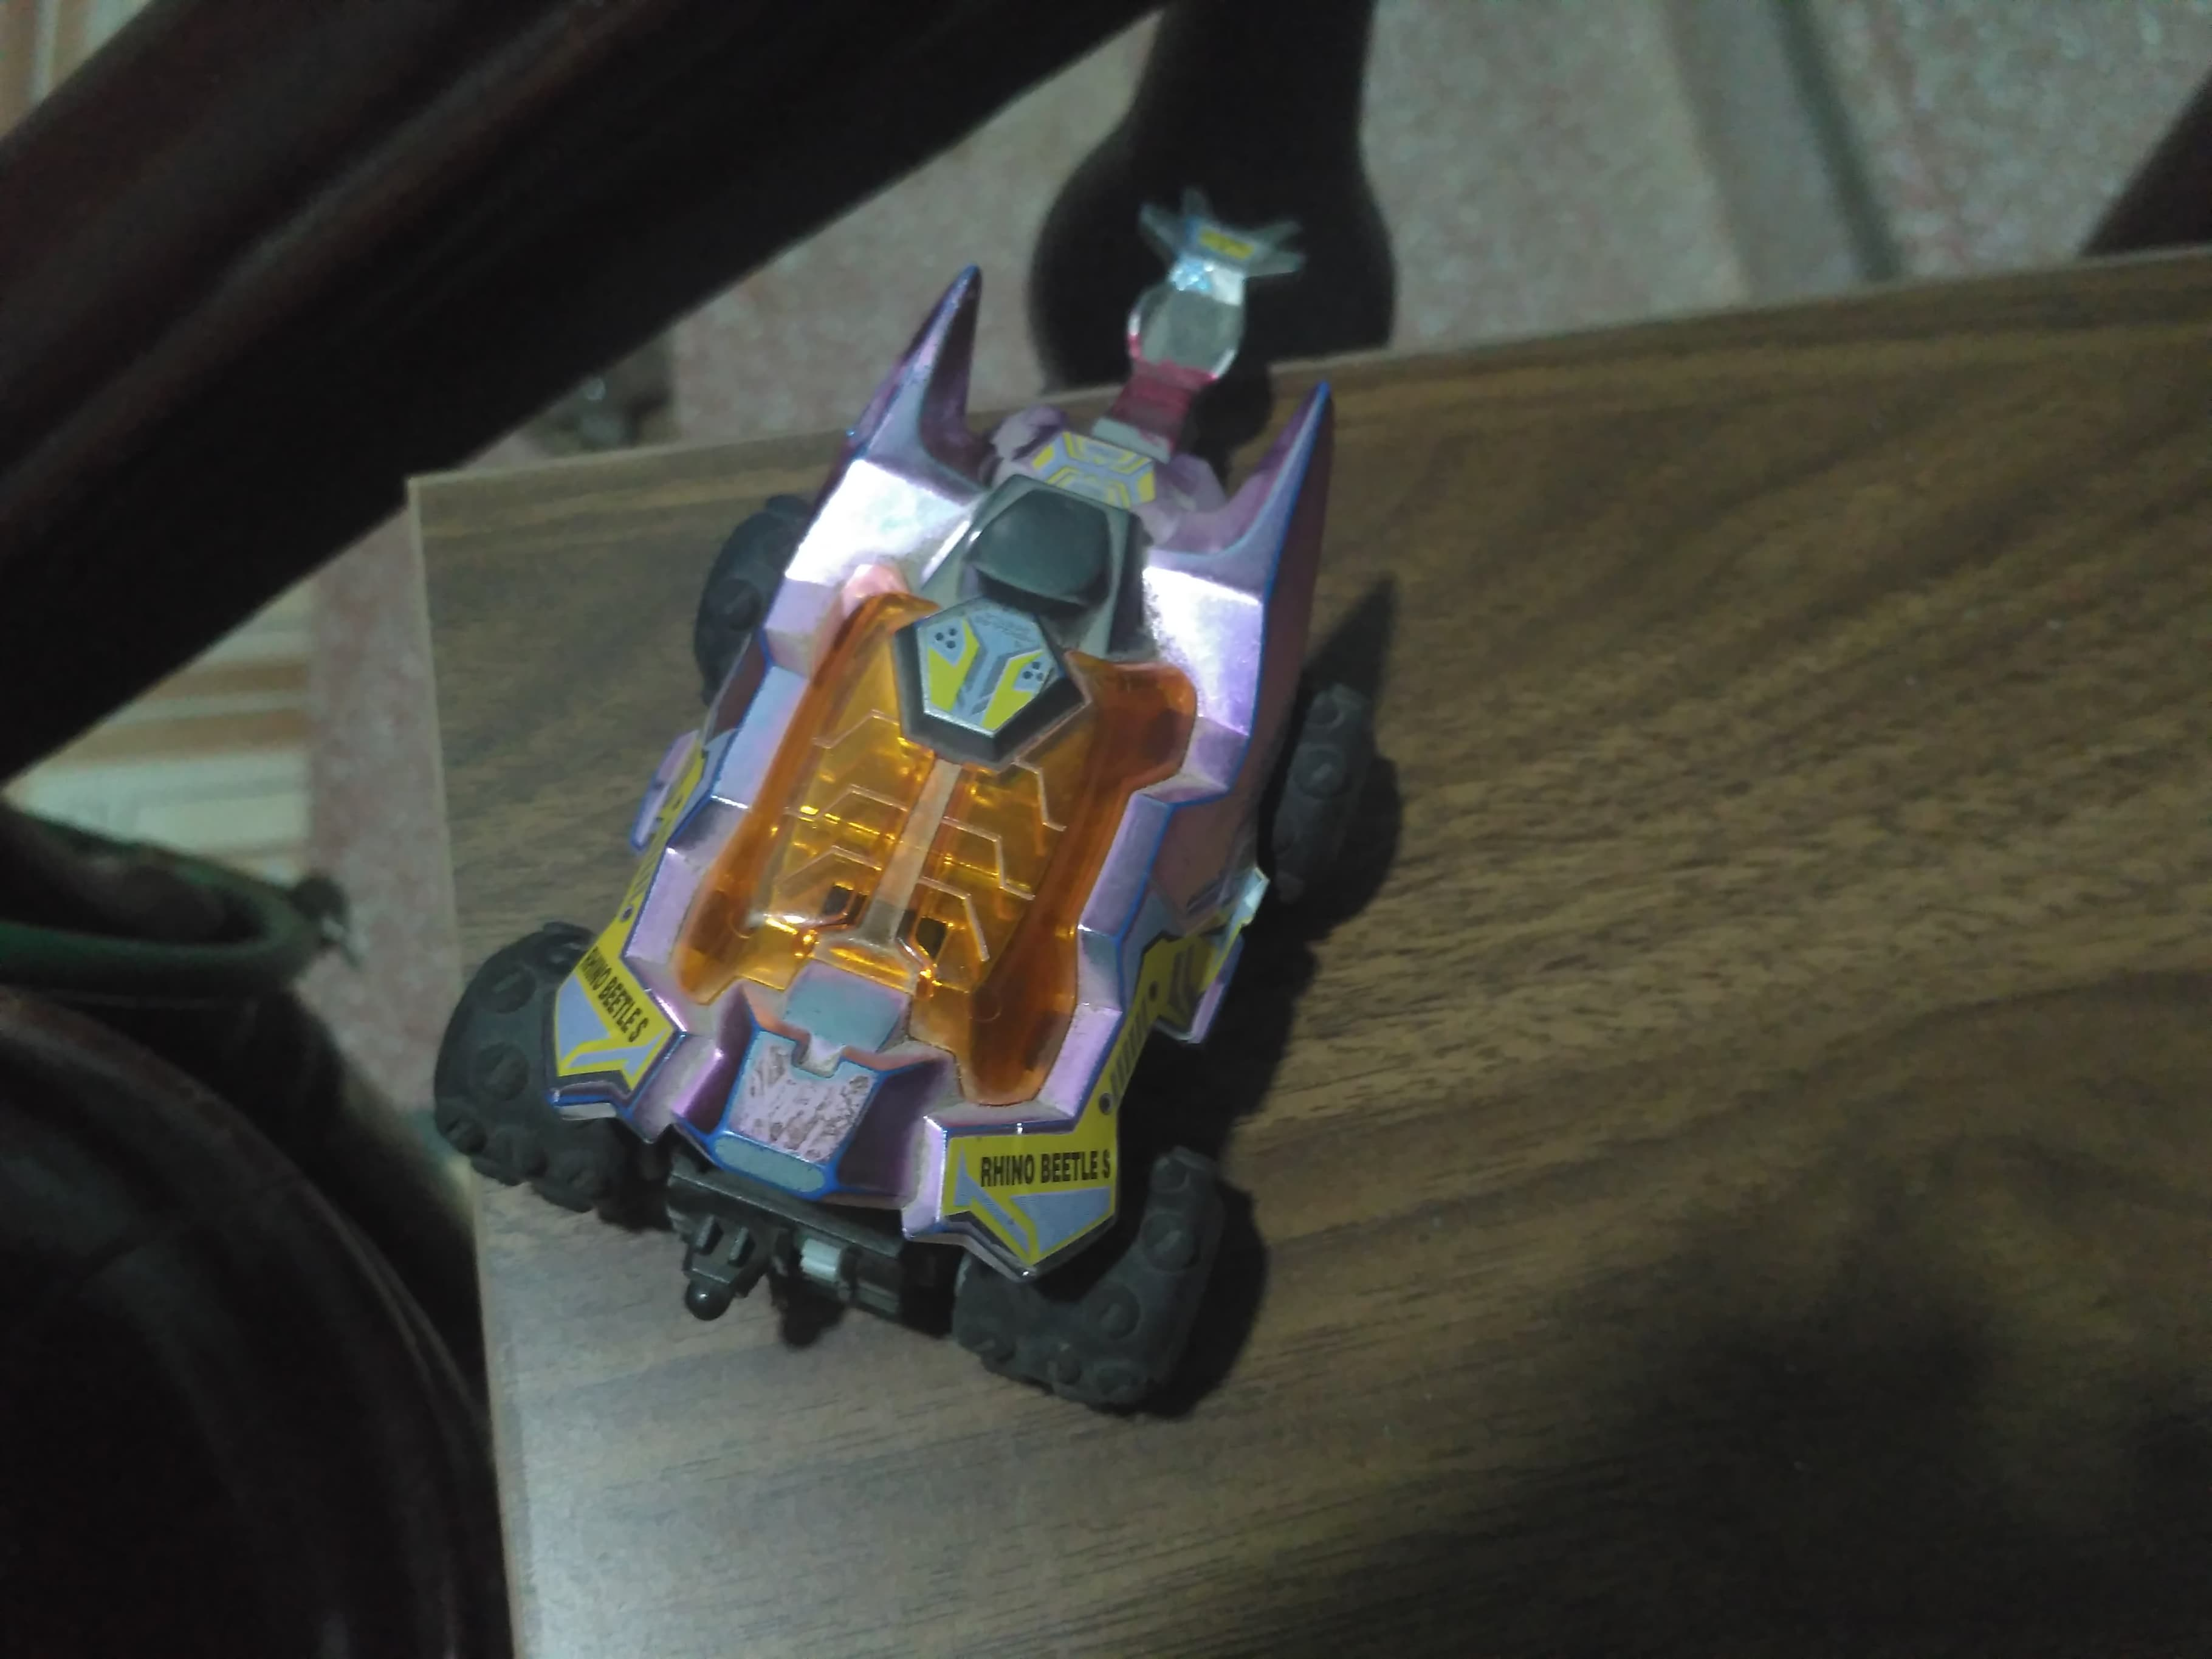rhino: (411, 162, 1402, 1431)
